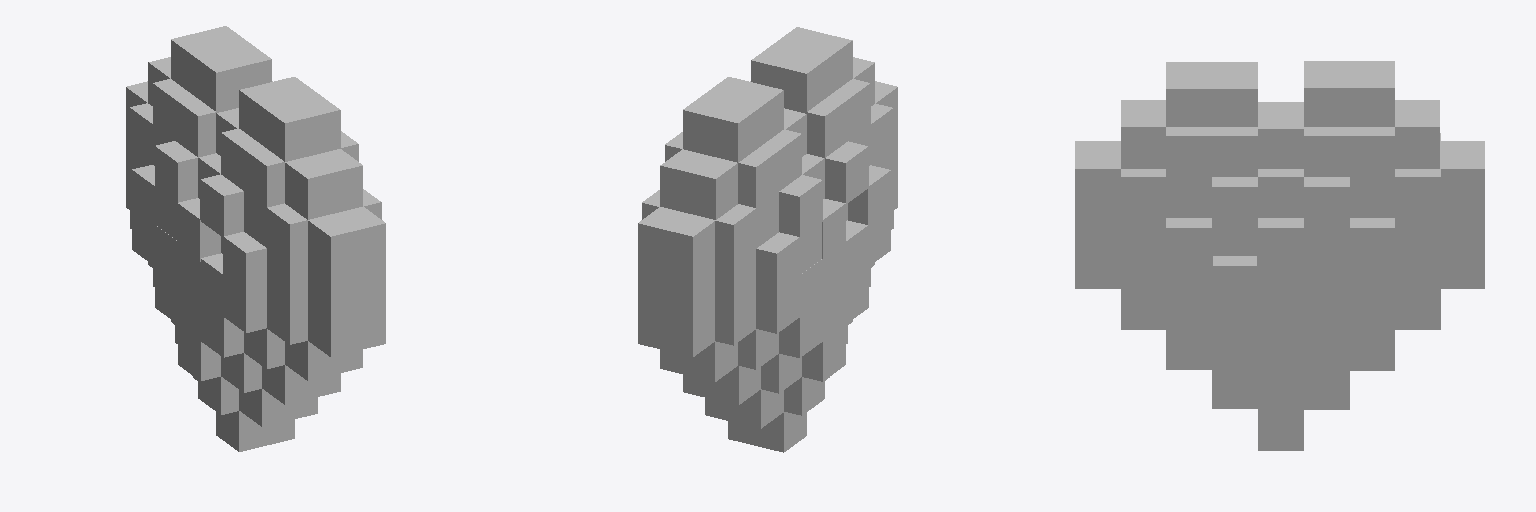
The model's file is Heart.obj.
3 views of the same model, side by side, from view 1: azimuth 30°, elevation 25°; view 2: azimuth 150°, elevation 25°; view 3: azimuth 270°, elevation 25° (orthographic).
Bounding box in the file's own units: 5.21 × 13.51 × 13.84.